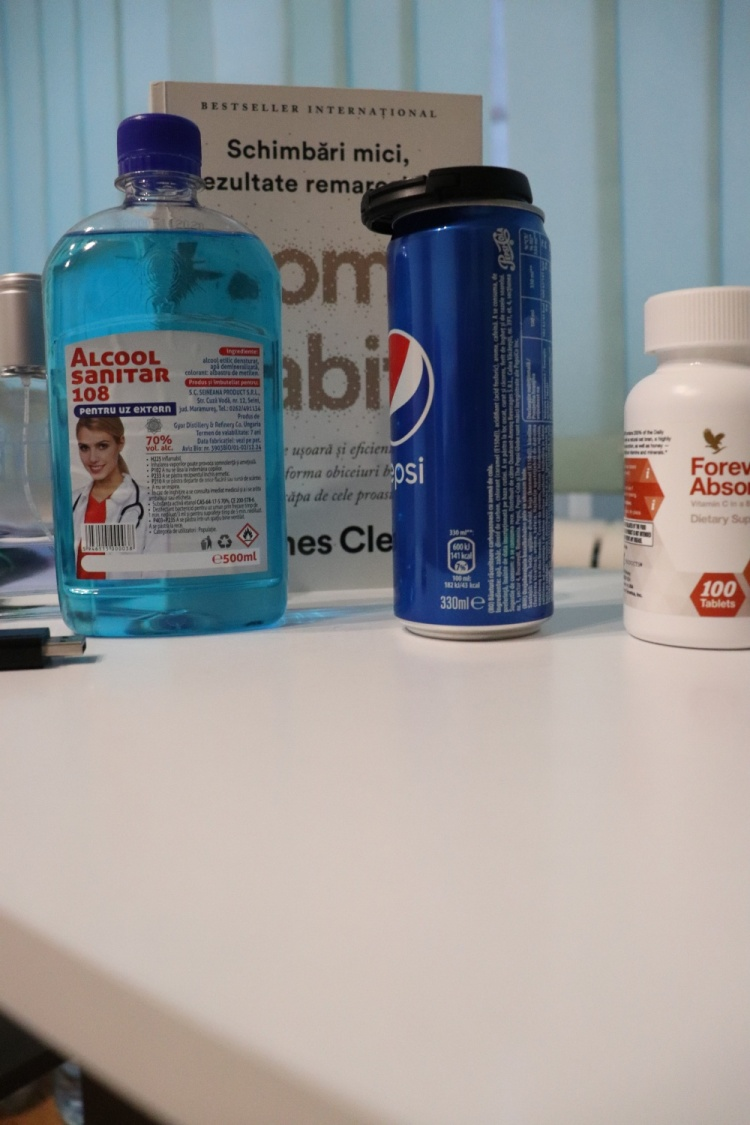pepsi: (367, 197, 568, 656)
